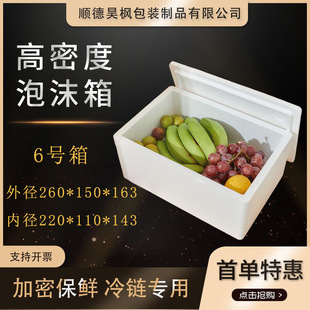Boxes: (114, 62, 301, 238)
